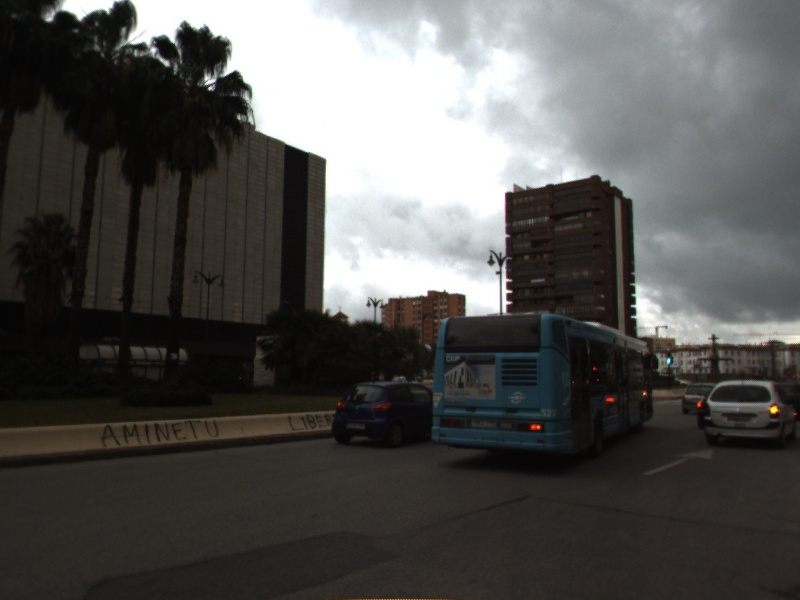STRAIGHT: (641, 447, 716, 478)
